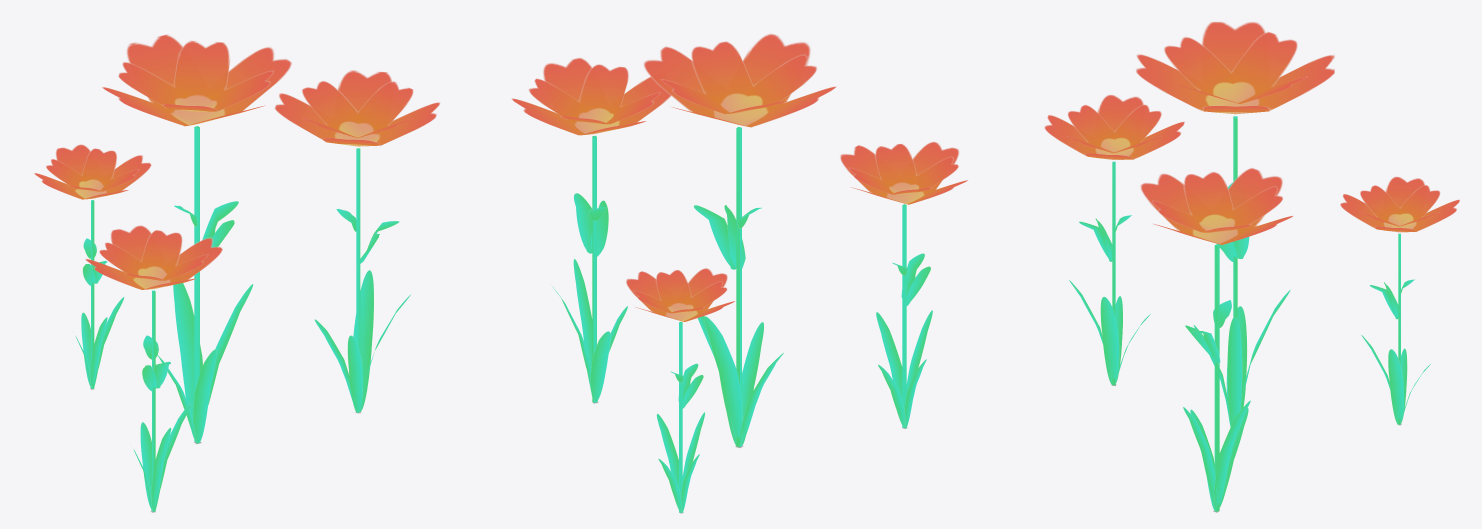
File: Flower_n_07.glb
The picture shows the model from 3 angles, left to right: view 1: azimuth 30°, elevation 25°; view 2: azimuth 150°, elevation 25°; view 3: azimuth 270°, elevation 25°; orthographic projection.
Visible parts, largest first — view 1: polySurface355; view 2: polySurface355; view 3: polySurface355.
Part boxes in pixels (x1=…): polySurface355: x1=34, y1=34, x2=440, y2=512; polySurface355: x1=511, y1=33, x2=968, y2=513; polySurface355: x1=1044, y1=21, x2=1459, y2=512.
Size of the model in its own units: 0.7922 by 0.6584 by 0.6899.
2 materials, 1 textured.
